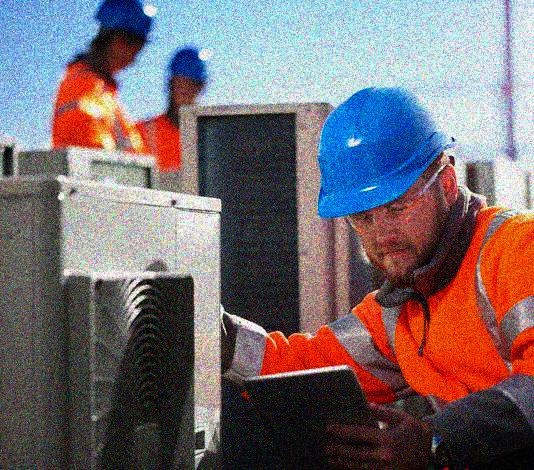helmet: (317, 86, 461, 286), (89, 1, 160, 71), (166, 42, 213, 103)
